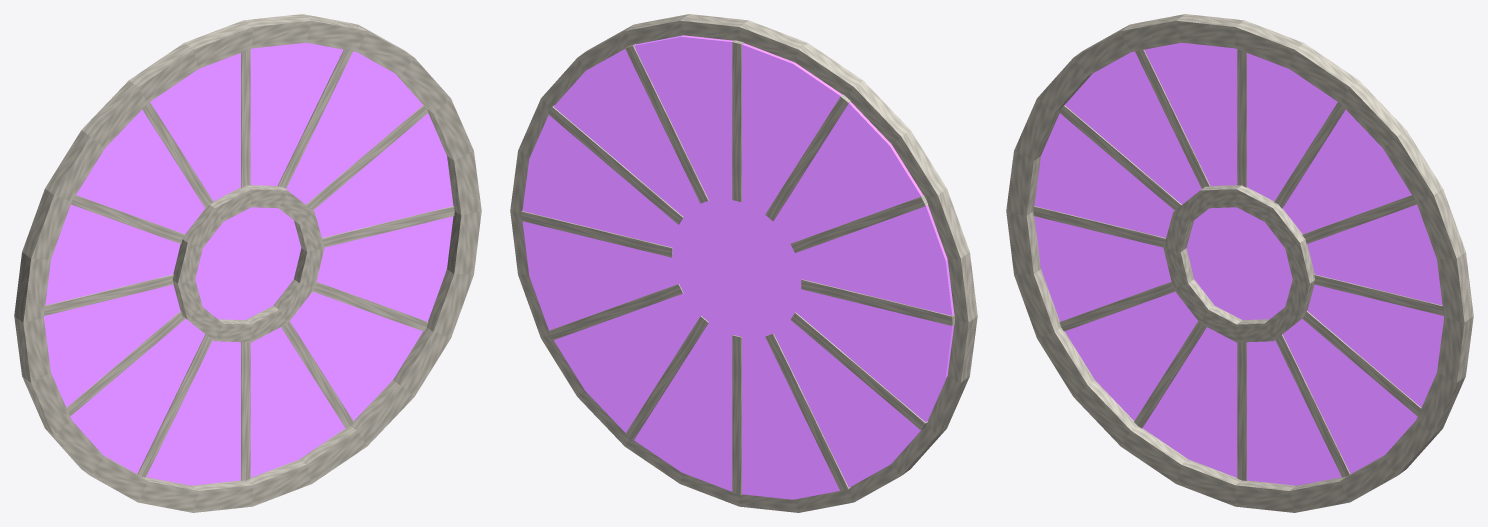
Rendered from vampire-crypt-and-gothic-cathedral-rose-window-199f7865__22946.glb.
3 views of the same model, side by side, from view 1: azimuth 30°, elevation 25°; view 2: azimuth 150°, elevation 25°; view 3: azimuth 330°, elevation 25° (orthographic).
Parts seen in each view (by area): view 1: rose-window; view 2: rose-window; view 3: rose-window.
Part boxes in pixels (x1,y1,x2,y2): rose-window: [14, 14, 481, 512]; rose-window: [510, 14, 977, 512]; rose-window: [1006, 14, 1473, 512].
Bounding box in the file's own units: 4.04 × 4.04 × 0.18.
2 materials, 1 textured.
